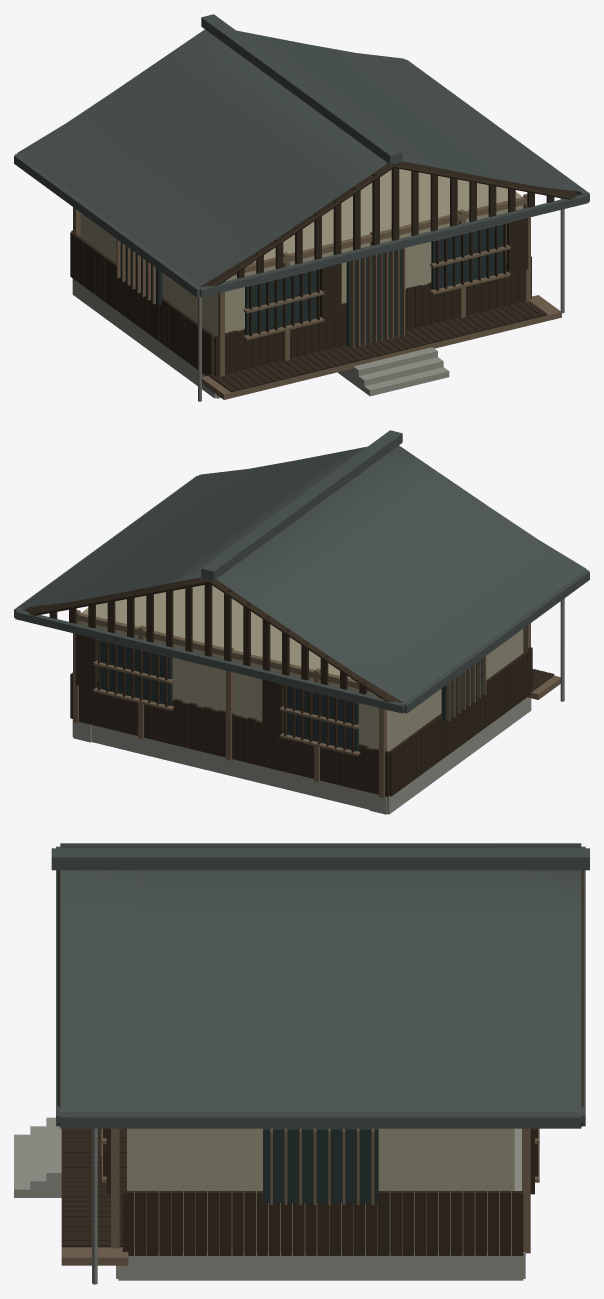
The model's file is office-low.glb.
3 renders of one model, top to bottom at view 1: azimuth 30°, elevation 25°; view 2: azimuth 150°, elevation 25°; view 3: azimuth 270°, elevation 25°, orthographic. The views are drawn at different scales.
Visible parts, largest first — view 1: roof, darkwood, wood, plaster, glass, stone, metal; view 2: roof, darkwood, plaster, stone, wood, glass, metal; view 3: roof, darkwood, plaster, stone, glass, wood, metal.
Part boxes in pixels (box(x1,y1,x2,y2)): roof: box(14, 14, 589, 297); darkwood: box(70, 161, 579, 392); wood: box(73, 194, 561, 399); plaster: box(80, 169, 523, 372); glass: box(120, 224, 503, 346); stone: box(72, 278, 449, 398); metal: box(198, 198, 564, 401); roof: box(14, 430, 589, 713); darkwood: box(24, 577, 554, 796); plaster: box(80, 585, 523, 751); stone: box(72, 697, 531, 814); wood: box(73, 610, 560, 797); glass: box(100, 640, 482, 751); metal: box(560, 598, 564, 701); roof: box(51, 843, 589, 1128); darkwood: box(57, 870, 583, 1255); plaster: box(127, 1128, 514, 1251); stone: box(14, 1117, 525, 1280); glass: box(263, 1128, 378, 1202); wood: box(61, 1128, 539, 1265); metal: box(92, 1128, 97, 1284).
Size of the model in its own units: 11.17 by 6.05 by 9.95.
